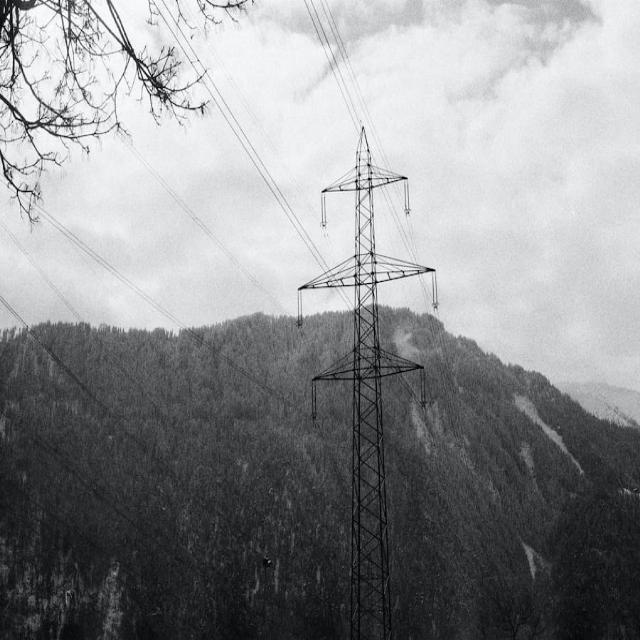transmission tower: (278, 109, 466, 640)
